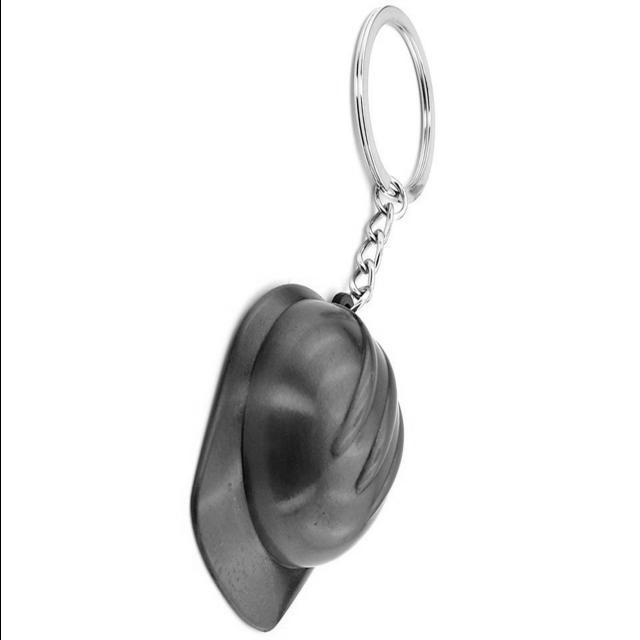safety_helmet: (188, 273, 402, 633)
